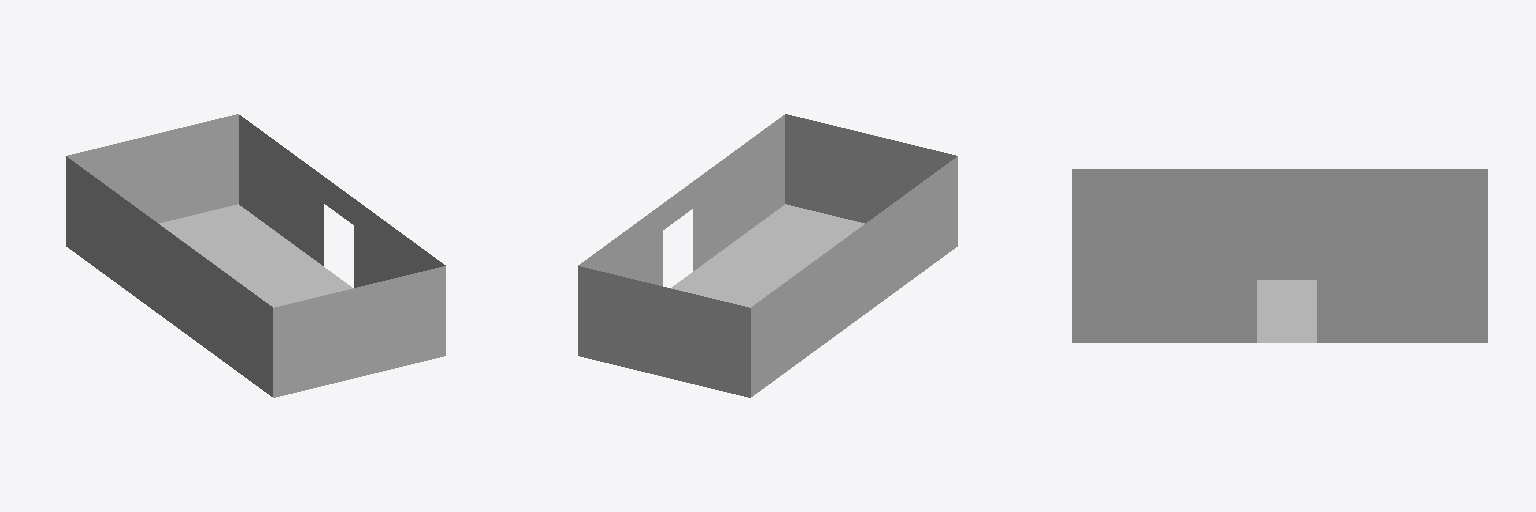
Rendered from Room2_cut.obj.
The picture shows the model from 3 angles: view 1: azimuth 30°, elevation 25°; view 2: azimuth 150°, elevation 25°; view 3: azimuth 270°, elevation 25°; orthographic projection.
Parts seen in each view (by area): view 1: Room2_cut; view 2: Room2_cut; view 3: Room2_cut.
Part boxes in pixels (x1,y1,x2,y2): Room2_cut: (66, 114, 445, 397); Room2_cut: (578, 114, 957, 397); Room2_cut: (1072, 169, 1487, 342).
Size of the model in its own units: 60 by 30 by 125.